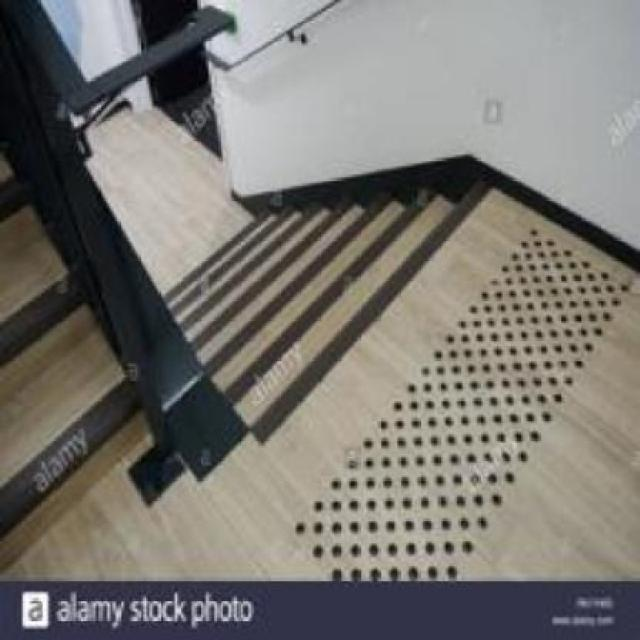stair: (156, 180, 496, 445)
